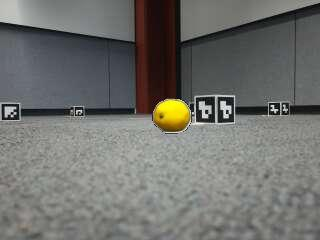lemon: (154, 101, 190, 132)
